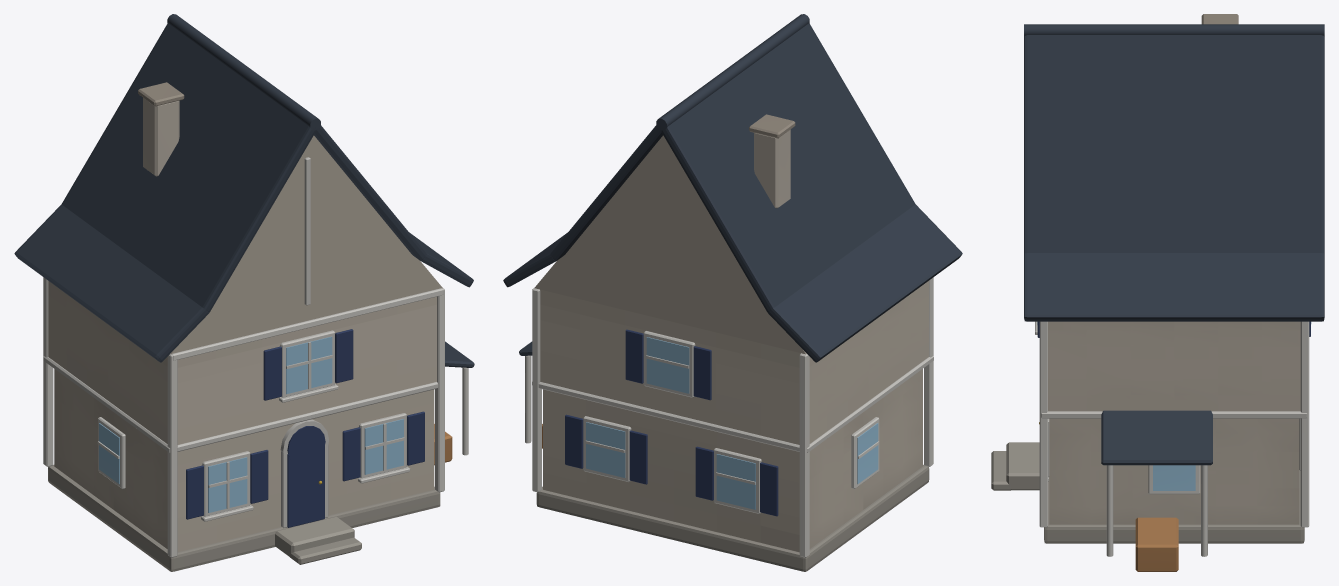
Rendered from cottage-6.glb.
The picture shows the model from 3 angles, left to right: view 1: azimuth 30°, elevation 25°; view 2: azimuth 150°, elevation 25°; view 3: azimuth 270°, elevation 25°; orthographic projection. The views are drawn at different scales.
Parts seen in each view (by area): view 1: cottage-6; view 2: cottage-6; view 3: cottage-6.
Part boxes in pixels (box(x1,y1,x2,y2)): cottage-6: box(14, 14, 474, 571); cottage-6: box(503, 14, 962, 571); cottage-6: box(991, 14, 1324, 571).
Size of the model in its own units: 10.06 by 11.58 by 7.76.
